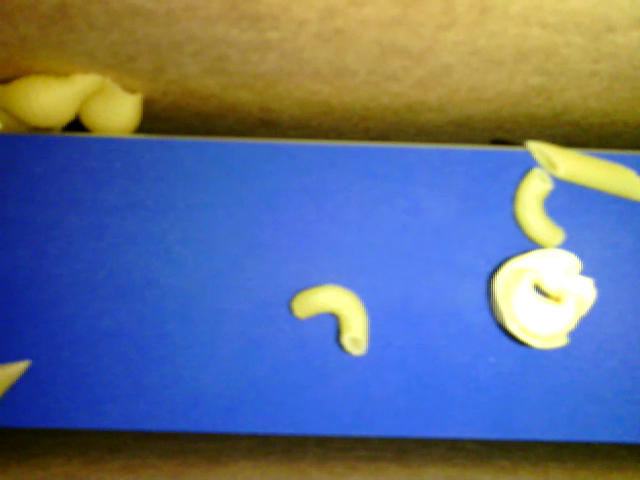elbow: (288, 279, 371, 352), (512, 168, 567, 249)
penne: (521, 137, 639, 204), (1, 359, 30, 402)
shell: (1, 71, 107, 127), (83, 82, 144, 132)
tortellini: (489, 250, 592, 348)
